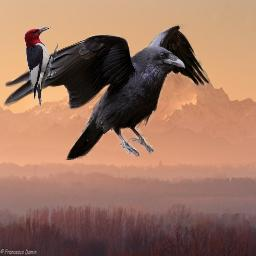Crow: (2, 24, 211, 160)
Woodpecker: (24, 26, 58, 108)
